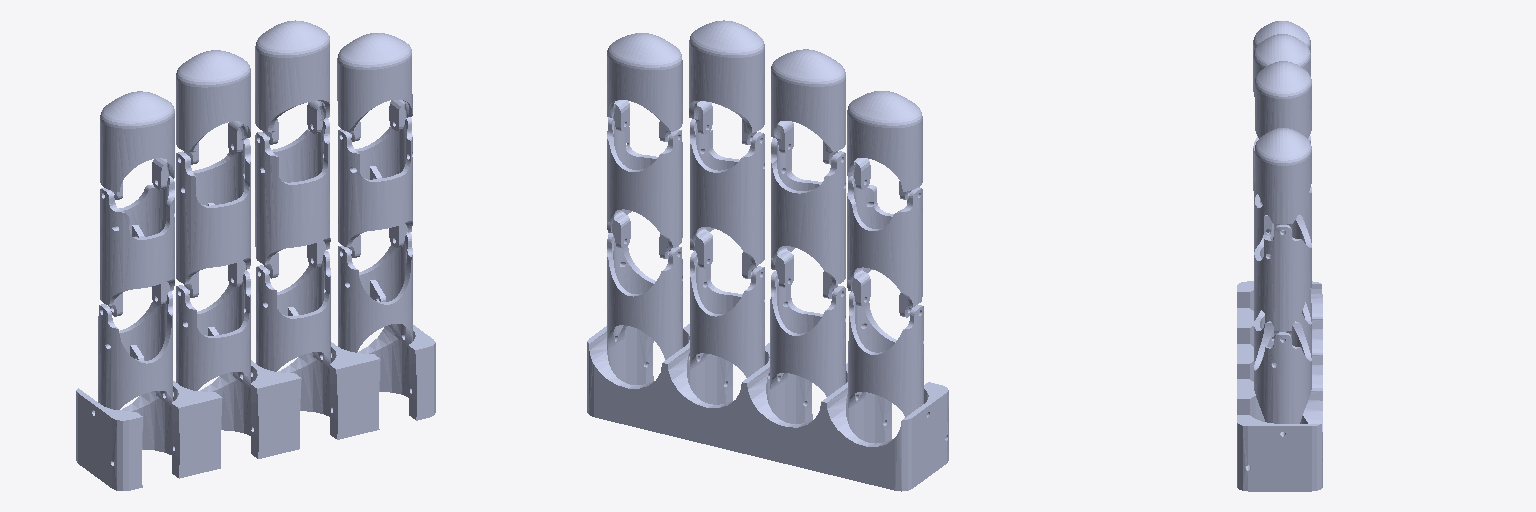
--- Facts derived from the render (not from the file) ---
3 views of the same robot in one strip: view 1: azimuth 30°, elevation 25°; view 2: azimuth 150°, elevation 25°; view 3: azimuth 270°, elevation 25° (orthographic).
Model robot_hand with 14 links and 13 joints (12 revolute, 1 fixed), rooted at world, posed every joint at zero.
Visible links, largest first — view 1: robot_hand_base_link, Middle_PIP, Ring_PIP, Pinky_PIP, Index_PIP, Middle_DIP, Middle_MCP, Ring_MCP, Pinky_MCP, Ring_DIP, Index_MCP, Pinky_DIP (+1 smaller); view 2: robot_hand_base_link, Middle_PIP, Ring_PIP, Pinky_PIP, Middle_DIP, Index_PIP, Ring_DIP, Ring_MCP, Pinky_MCP, Middle_MCP, Index_MCP, Pinky_DIP (+1 smaller); view 3: robot_hand_base_link, Index_PIP, Index_MCP, Index_DIP, Middle_DIP, Ring_DIP, Middle_PIP, Pinky_DIP, Middle_MCP.
Boxes of the visible links, x1,y1,x2,y2 form: robot_hand_base_link: (76,324,435,490); Middle_PIP: (255,118,330,278); Ring_PIP: (176,138,250,297); Pinky_PIP: (100,176,174,316); Index_PIP: (338,117,412,257); Middle_DIP: (255,20,329,144); Middle_MCP: (256,250,330,371); Ring_MCP: (176,270,250,390); Pinky_MCP: (98,291,172,409); Ring_DIP: (176,50,250,164); Index_MCP: (338,232,412,352); Pinky_DIP: (100,91,174,199); robot_hand_base_link: (587,324,948,491); Middle_PIP: (690,119,764,278); Ring_PIP: (771,138,845,298); Pinky_PIP: (847,176,922,317); Middle_DIP: (689,20,764,144); Index_PIP: (607,117,682,258); Ring_DIP: (771,49,845,164); Ring_MCP: (770,271,845,396); Pinky_MCP: (848,291,923,417); Middle_MCP: (690,251,764,377); Index_MCP: (607,233,682,359); Pinky_DIP: (847,91,922,199); robot_hand_base_link: (1237,281,1322,491); Index_PIP: (1254,215,1311,339); Index_MCP: (1254,321,1311,433); Index_DIP: (1254,128,1311,232); Middle_DIP: (1255,61,1311,138); Ring_DIP: (1253,34,1310,96); Middle_PIP: (1254,187,1311,251); Pinky_DIP: (1253,21,1310,53); Middle_MCP: (1254,302,1311,361).
Size in the robot's own frame: 0.119 by 0.03 by 0.1426 metres.
13 mesh visuals loaded from 13 distinct referenced files (13 binary STL).

The robot description file, URDF, robot "robot_hand":
<?xml version="1.0" ?>
<!-- =================================================================================== -->
<!-- |    This document was autogenerated by xacro from [local-path]/test_ws/src/robot_hand/robot_hand_description/urdf/robot_hand.xacro | -->
<!-- |    EDITING THIS FILE BY HAND IS NOT RECOMMENDED                                 | -->
<!-- =================================================================================== -->
<robot name="robot_hand">
    <link name="world" />
    <transmission name="I_MCP_trans">
        <type>transmission_interface/SimpleTransmission</type>
        <joint name="I_MCP">
            <hardwareInterface>hardware_interface/PositionJointInterface</hardwareInterface>
        </joint>
        <actuator name="I_MCP_motor">
            <mechanicalReduction>1</mechanicalReduction>
            <hardwareInterface>hardware_interface/PositionJointInterface</hardwareInterface>
        </actuator>
    </transmission>
    <transmission name="I_PIP_trans">
        <type>transmission_interface/SimpleTransmission</type>
        <joint name="I_PIP">
            <hardwareInterface>hardware_interface/PositionJointInterface</hardwareInterface>
        </joint>
        <actuator name="I_PIP_motor">
            <mechanicalReduction>1</mechanicalReduction>
            <hardwareInterface>hardware_interface/PositionJointInterface</hardwareInterface>
        </actuator>
    </transmission>
    <transmission name="I_DIP_trans">
        <type>transmission_interface/SimpleTransmission</type>
        <joint name="I_DIP">
            <hardwareInterface>hardware_interface/PositionJointInterface</hardwareInterface>
        </joint>
        <actuator name="I_DIP_motor">
            <mechanicalReduction>1</mechanicalReduction>
            <hardwareInterface>hardware_interface/PositionJointInterface</hardwareInterface>
        </actuator>
    </transmission>
    <transmission name="M_MCP_trans">
        <type>transmission_interface/SimpleTransmission</type>
        <joint name="M_MCP">
            <hardwareInterface>hardware_interface/PositionJointInterface</hardwareInterface>
        </joint>
        <actuator name="M_MCP_motor">
            <mechanicalReduction>1</mechanicalReduction>
            <hardwareInterface>hardware_interface/PositionJointInterface</hardwareInterface>
        </actuator>
    </transmission>
    <transmission name="M_PIP_trans">
        <type>transmission_interface/SimpleTransmission</type>
        <joint name="M_PIP">
            <hardwareInterface>hardware_interface/PositionJointInterface</hardwareInterface>
        </joint>
        <actuator name="M_PIP_motor">
            <mechanicalReduction>1</mechanicalReduction>
            <hardwareInterface>hardware_interface/PositionJointInterface</hardwareInterface>
        </actuator>
    </transmission>
    <transmission name="M_DIP_trans">
        <type>transmission_interface/SimpleTransmission</type>
        <joint name="M_DIP">
            <hardwareInterface>hardware_interface/PositionJointInterface</hardwareInterface>
        </joint>
        <actuator name="M_DIP_motor">
            <mechanicalReduction>1</mechanicalReduction>
            <hardwareInterface>hardware_interface/PositionJointInterface</hardwareInterface>
        </actuator>
    </transmission>
    <transmission name="R_MCP_trans">
        <type>transmission_interface/SimpleTransmission</type>
        <joint name="R_MCP">
            <hardwareInterface>hardware_interface/PositionJointInterface</hardwareInterface>
        </joint>
        <actuator name="R_MCP_motor">
            <mechanicalReduction>1</mechanicalReduction>
            <hardwareInterface>hardware_interface/PositionJointInterface</hardwareInterface>
        </actuator>
    </transmission>
    <transmission name="R_PIP_trans">
        <type>transmission_interface/SimpleTransmission</type>
        <joint name="R_PIP">
            <hardwareInterface>hardware_interface/PositionJointInterface</hardwareInterface>
        </joint>
        <actuator name="R_PIP_motor">
            <mechanicalReduction>1</mechanicalReduction>
            <hardwareInterface>hardware_interface/PositionJointInterface</hardwareInterface>
        </actuator>
    </transmission>
    <transmission name="R_DIP_trans">
        <type>transmission_interface/SimpleTransmission</type>
        <joint name="R_DIP">
            <hardwareInterface>hardware_interface/PositionJointInterface</hardwareInterface>
        </joint>
        <actuator name="R_DIP_motor">
            <mechanicalReduction>1</mechanicalReduction>
            <hardwareInterface>hardware_interface/PositionJointInterface</hardwareInterface>
        </actuator>
    </transmission>
    <transmission name="P_MCP_trans">
        <type>transmission_interface/SimpleTransmission</type>
        <joint name="P_MCP">
            <hardwareInterface>hardware_interface/PositionJointInterface</hardwareInterface>
        </joint>
        <actuator name="P_MCP_motor">
            <mechanicalReduction>1</mechanicalReduction>
            <hardwareInterface>hardware_interface/PositionJointInterface</hardwareInterface>
        </actuator>
    </transmission>
    <transmission name="P_PIP_trans">
        <type>transmission_interface/SimpleTransmission</type>
        <joint name="P_PIP">
            <hardwareInterface>hardware_interface/PositionJointInterface</hardwareInterface>
        </joint>
        <actuator name="P_PIP_motor">
            <mechanicalReduction>1</mechanicalReduction>
            <hardwareInterface>hardware_interface/PositionJointInterface</hardwareInterface>
        </actuator>
    </transmission>
    <transmission name="P_DIP_trans">
        <type>transmission_interface/SimpleTransmission</type>
        <joint name="P_DIP">
            <hardwareInterface>hardware_interface/PositionJointInterface</hardwareInterface>
        </joint>
        <actuator name="P_DIP_motor">
            <mechanicalReduction>1</mechanicalReduction>
            <hardwareInterface>hardware_interface/PositionJointInterface</hardwareInterface>
        </actuator>
    </transmission>
    <gazebo reference="robot_hand_base_link">
        <kp>1000000.0</kp>
        <kd>1.0</kd>
        <mu1>0.8</mu1>
        <mu2>0.8</mu2>
        <maxVel>0.0</maxVel>
        <minDepth>0.001</minDepth>
        <!-- <selfCollide>true</selfCollide> -->
        <plugin name="gazebo_ros_control">
            <robotNamespace>/</robotNamespace>
        </plugin>
    </gazebo>
    <gazebo reference="Index_MCP">
        <kp>1000000.0</kp>
        <kd>1.0</kd>
        <mu1>0.8</mu1>
        <mu2>0.8</mu2>
        <maxVel>0.0</maxVel>
        <minDepth>0.001</minDepth>
        <!-- <selfCollide>true</selfCollide> -->
    </gazebo>
    <gazebo reference="Index_PIP">
        <kp>1000000.0</kp>
        <kd>1.0</kd>
        <mu1>0.8</mu1>
        <mu2>0.8</mu2>
        <maxVel>0.0</maxVel>
        <minDepth>0.001</minDepth>
        <!-- <selfCollide>true</selfCollide> -->
    </gazebo>
    <gazebo reference="Index_DIP">
        <kp>1000000.0</kp>
        <kd>1.0</kd>
        <mu1>0.8</mu1>
        <mu2>0.8</mu2>
        <maxVel>0.0</maxVel>
        <minDepth>0.001</minDepth>
        <!-- <selfCollide>true</selfCollide> -->
    </gazebo>
    <gazebo reference="Middle_MCP">
        <kp>1000000.0</kp>
        <kd>1.0</kd>
        <mu1>0.8</mu1>
        <mu2>0.8</mu2>
        <maxVel>0.0</maxVel>
        <minDepth>0.001</minDepth>
        <!-- <selfCollide>true</selfCollide> -->
    </gazebo>
    <gazebo reference="Middle_PIP">
        <kp>1000000.0</kp>
        <kd>1.0</kd>
        <mu1>0.8</mu1>
        <mu2>0.8</mu2>
        <maxVel>0.0</maxVel>
        <minDepth>0.001</minDepth>
        <!-- <selfCollide>true</selfCollide> -->
    </gazebo>
    <gazebo reference="Middle_DIP">
        <kp>1000000.0</kp>
        <kd>1.0</kd>
        <mu1>0.8</mu1>
        <mu2>0.8</mu2>
        <maxVel>0.0</maxVel>
        <minDepth>0.001</minDepth>
        <!-- <selfCollide>true</selfCollide> -->
    </gazebo>
    <gazebo reference="Ring_MCP">
        <kp>1000000.0</kp>
        <kd>1.0</kd>
        <mu1>0.8</mu1>
        <mu2>0.8</mu2>
        <maxVel>0.0</maxVel>
        <minDepth>0.001</minDepth>
        <!-- <selfCollide>true</selfCollide> -->
    </gazebo>
    <gazebo reference="Ring_PIP">
        <kp>1000000.0</kp>
        <kd>1.0</kd>
        <mu1>0.8</mu1>
        <mu2>0.8</mu2>
        <maxVel>0.0</maxVel>
        <minDepth>0.001</minDepth>
        <!-- <selfCollide>true</selfCollide> -->
    </gazebo>
    <gazebo reference="Ring_DIP">
        <kp>1000000.0</kp>
        <kd>1.0</kd>
        <mu1>0.8</mu1>
        <mu2>0.8</mu2>
        <maxVel>0.0</maxVel>
        <minDepth>0.001</minDepth>
        <!-- <selfCollide>true</selfCollide> -->
    </gazebo>
    <gazebo reference="Pinky_MCP">
        <kp>1000000.0</kp>
        <kd>1.0</kd>
        <mu1>0.8</mu1>
        <mu2>0.8</mu2>
        <maxVel>0.0</maxVel>
        <minDepth>0.001</minDepth>
        <!-- <selfCollide>true</selfCollide> -->
    </gazebo>
    <gazebo reference="Pinky_PIP">
        <kp>1000000.0</kp>
        <kd>1.0</kd>
        <mu1>0.8</mu1>
        <mu2>0.8</mu2>
        <maxVel>0.0</maxVel>
        <minDepth>0.001</minDepth>
        <!-- <selfCollide>true</selfCollide> -->
    </gazebo>
    <gazebo reference="Pinky_DIP">
        <kp>1000000.0</kp>
        <kd>1.0</kd>
        <mu1>0.8</mu1>
        <mu2>0.8</mu2>
        <maxVel>0.0</maxVel>
        <minDepth>0.001</minDepth>
        <!-- <selfCollide>true</selfCollide> -->
    </gazebo>
    <gazebo reference="I_MCP">
        <implicitSpringDamper>true</implicitSpringDamper>
    </gazebo>
    <gazebo reference="I_PIP">
        <implicitSpringDamper>true</implicitSpringDamper>
    </gazebo>
    <gazebo reference="I_DIP">
        <implicitSpringDamper>true</implicitSpringDamper>
    </gazebo>
    <gazebo reference="M_MCP">
        <implicitSpringDamper>true</implicitSpringDamper>
    </gazebo>
    <gazebo reference="M_PIP">
        <implicitSpringDamper>true</implicitSpringDamper>
    </gazebo>
    <gazebo reference="M_DIP">
        <implicitSpringDamper>true</implicitSpringDamper>
    </gazebo>
    <gazebo reference="R_MCP">
        <implicitSpringDamper>true</implicitSpringDamper>
    </gazebo>
    <gazebo reference="R_PIP">
        <implicitSpringDamper>true</implicitSpringDamper>
    </gazebo>
    <gazebo reference="R_DIP">
        <implicitSpringDamper>true</implicitSpringDamper>
    </gazebo>
    <gazebo reference="P_MCP">
        <implicitSpringDamper>true</implicitSpringDamper>
    </gazebo>
    <gazebo reference="P_PIP">
        <implicitSpringDamper>true</implicitSpringDamper>
    </gazebo>
    <gazebo reference="P_DIP">
        <implicitSpringDamper>true</implicitSpringDamper>
    </gazebo>
    <!-- connect to parent link -->
    <joint name="robot_hand_base_joint" type="fixed">
        <parent link="world" />
        <child link="robot_hand_base_link" />
        <origin rpy="0.0 0.0 0.0" xyz="0.0 0.0 0.1" />
    </joint>
    <link name="robot_hand_base_link">
        <inertial>
            <origin rpy="0 0 0" xyz="0.00679916179935621 -0.0019256752110938 -0.00365584812497563" />
            <mass value="0.027526868485705" />
            <inertia ixx="4.44813578122786E-06" ixy="-3.90118485536691E-09" ixz="-2.6766706211295E-09" iyy="3.87930983079954E-05" iyz="-4.72320845861549E-07" izz="3.69454967150113E-05" />
        </inertial>
        <visual>
            <origin rpy="0 0 0" xyz="0 0 0" />
            <geometry>
                <mesh filename="package://robot_hand_description/meshes/base_link.STL" />
            </geometry>
            <material name="">
                <color rgba="0.796078431372549 0.823529411764706 0.937254901960784 1" />
            </material>
        </visual>
        <collision>
            <origin rpy="0 0 0" xyz="0 0 0" />
            <geometry>
                <mesh filename="package://robot_hand_description/meshes/base_link.STL" />
            </geometry>
        </collision>
    </link>
    <link name="Index_MCP">
        <inertial>
            <origin rpy="0 0 0" xyz="0.012682593304865 0.0162068829441154 -0.000625116427471942" />
            <mass value="0.00283104222178192" />
            <inertia ixx="2.68396990747804E-07" ixy="-1.74857407762405E-11" ixz="1.75612867570891E-10" iyy="3.21070306482887E-07" iyz="5.88647002871964E-09" izz="4.25530722400776E-07" />
        </inertial>
        <visual>
            <origin rpy="0 0 0" xyz="0 0 0" />
            <geometry>
                <mesh filename="package://robot_hand_description/meshes/Index_MCP.STL" />
            </geometry>
            <material name="">
                <color rgba="0.792156862745098 0.819607843137255 0.933333333333333 1" />
            </material>
        </visual>
        <collision>
            <origin rpy="0 0 0" xyz="0 0 0" />
            <geometry>
                <mesh filename="package://robot_hand_description/meshes/Index_MCP.STL" />
            </geometry>
        </collision>
    </link>
    <joint name="I_MCP" type="revolute">
        <origin rpy="1.5701 0 0" xyz="0.038816 0.0044374 0.008946" />
        <parent link="robot_hand_base_link" />
        <child link="Index_MCP" />
        <axis xyz="1 0 0" />
        <limit effort="10" lower="-1.4771" upper="0.18082" velocity="1" />
    </joint>
    <link name="Index_PIP">
        <inertial>
            <origin rpy="0 0 0" xyz="0.0126310365219343 0.0201709957614433 -9.54113611201825E-05" />
            <mass value="0.00349224522527916" />
            <inertia ixx="4.28270951698702E-07" ixy="1.73003912727725E-11" ixz="-4.91453833301983E-11" iyy="3.82638725849662E-07" iyz="2.80038778736064E-08" izz="5.95574976043894E-07" />
        </inertial>
        <visual>
            <origin rpy="0 0 0" xyz="0 0 0" />
            <geometry>
                <mesh filename="package://robot_hand_description/meshes/Index_PIP.STL" />
            </geometry>
            <material name="">
                <color rgba="0.792156862745098 0.819607843137255 0.933333333333333 1" />
            </material>
        </visual>
        <collision>
            <origin rpy="0 0 0" xyz="0 0 0" />
            <geometry>
                <mesh filename="package://robot_hand_description/meshes/Index_PIP.STL" />
            </geometry>
        </collision>
    </link>
    <joint name="I_PIP" type="revolute">
        <origin rpy="-0.00012255 0 0" xyz="0 0.035 0" />
        <parent link="Index_MCP" />
        <child link="Index_PIP" />
        <axis xyz="1 0 0" />
        <limit effort="10" lower="-1.5376" upper="0.15464" velocity="1" />
    </joint>
    <link name="Index_DIP">
        <inertial>
            <origin rpy="0 0 0" xyz="0.0126443172988165 -0.0192320712158117 0.000175621359642236" />
            <mass value="0.00362445623964682" />
            <inertia ixx="3.58966159502274E-07" ixy="4.14596593976165E-11" ixz="2.33824961588716E-11" iyy="3.35705493851876E-07" iyz="6.24081740884986E-10" izz="4.779340977474E-07" />
        </inertial>
        <visual>
            <origin rpy="0 0 0" xyz="0 0 0" />
            <geometry>
                <mesh filename="package://robot_hand_description/meshes/Index_DIP.STL" />
            </geometry>
            <material name="">
                <color rgba="0.792156862745098 0.819607843137255 0.933333333333333 1" />
            </material>
        </visual>
        <collision>
            <origin rpy="0 0 0" xyz="0 0 0" />
            <geometry>
                <mesh filename="package://robot_hand_description/meshes/Index_DIP.STL" />
            </geometry>
        </collision>
    </link>
    <joint name="I_DIP" type="revolute">
        <origin rpy="3.1389 0 0" xyz="0 0.041185 0" />
        <parent link="Index_PIP" />
        <child link="Index_DIP" />
        <axis xyz="1 0 0" />
        <limit effort="10" lower="-1.4558" upper="0.17453" velocity="1" />
    </joint>
    <link name="Middle_MCP">
        <inertial>
            <origin rpy="0 0 0" xyz="0.0126879087309877 0.0154979280536171 -0.000460763708118244" />
            <mass value="0.00303715863779007" />
            <inertia ixx="3.00421693606092E-07" ixy="1.28997577863778E-11" ixz="6.95566815197937E-11" iyy="3.42251597986814E-07" iyz="5.91359935850575E-09" izz="4.46095724267292E-07" />
        </inertial>
        <visual>
            <origin rpy="0 0 0" xyz="0 0 0" />
            <geometry>
                <mesh filename="package://robot_hand_description/meshes/Middle_MCP.STL" />
            </geometry>
            <material name="">
                <color rgba="0.792156862745098 0.819607843137255 0.933333333333333 1" />
            </material>
        </visual>
        <collision>
            <origin rpy="0 0 0" xyz="0 0 0" />
            <geometry>
                <mesh filename="package://robot_hand_description/meshes/Middle_MCP.STL" />
            </geometry>
        </collision>
    </link>
    <joint name="M_MCP" type="revolute">
        <origin rpy="1.5726 0 0" xyz="0.008435 0.0044374 0.008946" />
        <parent link="robot_hand_base_link" />
        <child link="Middle_MCP" />
        <axis xyz="1 0 0" />
        <limit effort="10" lower="-1.4717" upper="0.24435" velocity="1" />
    </joint>
    <link name="Middle_PIP">
        <inertial>
            <origin rpy="0 0 0" xyz="0.0126177717251578 0.0236370269473342 -0.000123638278977505" />
            <mass value="0.00421401220768261" />
            <inertia ixx="6.44849155259494E-07" ixy="1.09662271183159E-11" ixz="-4.38489725486866E-11" iyy="4.58477964785857E-07" iyz="3.75475104147763E-08" izz="8.2581260157064E-07" />
        </inertial>
        <visual>
            <origin rpy="0 0 0" xyz="0 0 0" />
            <geometry>
                <mesh filename="package://robot_hand_description/meshes/Middle_PIP.STL" />
            </geometry>
            <material name="">
                <color rgba="0.792156862745098 0.819607843137255 0.933333333333333 1" />
            </material>
        </visual>
        <collision>
            <origin rpy="0 0 0" xyz="0 0 0" />
            <geometry>
                <mesh filename="package://robot_hand_description/meshes/Middle_PIP.STL" />
            </geometry>
        </collision>
    </link>
    <joint name="M_PIP" type="revolute">
        <origin rpy="-0.0072617 0 0" xyz="0 0.035 0" />
        <parent link="Middle_MCP" />
        <child link="Middle_PIP" />
        <axis xyz="1 0 0" />
        <limit effort="10" lower="-1.6343" upper="0.14992" velocity="1" />
    </joint>
    <link name="Middle_DIP">
        <inertial>
            <origin rpy="0 0 0" xyz="0.0127223421207237 -0.0221676473088204 0.000221550832163056" />
            <mass value="0.00436102638650894" />
            <inertia ixx="5.38273182816303E-07" ixy="1.91216857813148E-11" ixz="-5.93784312446328E-13" iyy="4.04550672036207E-07" iyz="-1.81608330783571E-09" izz="6.70718090874217E-07" />
        </inertial>
        <visual>
            <origin rpy="0 0 0" xyz="0 0 0" />
            <geometry>
                <mesh filename="package://robot_hand_description/meshes/Middle_DIP.STL" />
            </geometry>
            <material name="">
                <color rgba="0.792156862745098 0.819607843137255 0.933333333333333 1" />
            </material>
        </visual>
        <collision>
            <origin rpy="0 0 0" xyz="0 0 0" />
            <geometry>
                <mesh filename="package://robot_hand_description/meshes/Middle_DIP.STL" />
            </geometry>
        </collision>
    </link>
    <joint name="M_DIP" type="revolute">
        <origin rpy="-3.1352 0 0" xyz="0 0.047185 0" />
        <parent link="Middle_PIP" />
        <child link="Middle_DIP" />
        <axis xyz="1 0 0" />
        <limit effort="10" lower="-1.3116" upper="0.067544" velocity="1" />
    </joint>
    <link name="Ring_MCP">
        <inertial>
            <origin rpy="0 0 0" xyz="-0.00851069417048304 0.0154979284345673 -0.000460779135479866" />
            <mass value="0.00303715829296062" />
            <inertia ixx="3.00421605529124E-07" ixy="1.29376837811315E-11" ixz="7.00894753767423E-11" iyy="3.42251537696707E-07" iyz="5.91370157650367E-09" izz="4.4609572890628E-07" />
        </inertial>
        <visual>
            <origin rpy="0 0 0" xyz="0 0 0" />
            <geometry>
                <mesh filename="package://robot_hand_description/meshes/Ring_MCP.STL" />
            </geometry>
            <material name="">
                <color rgba="0.792156862745098 0.819607843137255 0.933333333333333 1" />
            </material>
        </visual>
        <collision>
            <origin rpy="0 0 0" xyz="0 0 0" />
            <geometry>
                <mesh filename="package://robot_hand_description/meshes/Ring_MCP.STL" />
            </geometry>
        </collision>
    </link>
    <joint name="R_MCP" type="revolute">
        <origin rpy="1.575 0 0" xyz="0 0.0044374 0.008946" />
        <parent link="robot_hand_base_link" />
        <child link="Ring_MCP" />
        <axis xyz="1 0 0" />
        <limit effort="10" lower="-1.4696" upper="0.23405" velocity="1" />
    </joint>
    <link name="Ring_PIP">
        <inertial>
            <origin rpy="0 0 0" xyz="-0.00855133676474402 0.0232472264469809 -0.000176680583923661" />
            <mass value="0.00409039102539737" />
            <inertia ixx="6.16455094868082E-07" ixy="2.67772798437732E-11" ixz="-5.29133703092478E-11" iyy="4.45779709619646E-07" iyz="3.86948158031167E-08" izz="7.97277060473416E-07" />
        </inertial>
        <visual>
            <origin rpy="0 0 0" xyz="0 0 0" />
            <geometry>
                <mesh filename="package://robot_hand_description/meshes/Ring_PIP.STL" />
            </geometry>
            <material name="">
                <color rgba="0.792156862745098 0.819607843137255 0.933333333333333 1" />
            </material>
        </visual>
        <collision>
            <origin rpy="0 0 0" xyz="0 0 0" />
            <geometry>
                <mesh filename="package://robot_hand_description/meshes/Ring_PIP.STL" />
            </geometry>
        </collision>
    </link>
    <joint name="R_PIP" type="revolute">
        <origin rpy="-0.0021277 0 0" xyz="0 0.035 0" />
        <parent link="Ring_MCP" />
        <child link="Ring_PIP" />
        <axis xyz="1 0 0" />
        <limit effort="10" lower="-1.6357" upper="0.14347" velocity="1" />
    </joint>
    <link name="Ring_DIP">
        <inertial>
            <origin rpy="0 0 0" xyz="-0.00852393262700487 -0.0203547421063335 0.000239584005666251" />
            <mass value="0.00395455991158003" />
            <inertia ixx="4.19356255680021E-07" ixy="4.85134953386412E-11" ixz="1.59532288599564E-11" iyy="3.62160651949908E-07" iyz="4.24814682139223E-10" izz="5.44900483167488E-07" />
        </inertial>
        <visual>
            <origin rpy="0 0 0" xyz="0 0 0" />
            <geometry>
                <mesh filename="package://robot_hand_description/meshes/Ring_DIP.STL" />
            </geometry>
            <material name="">
                <color rgba="0.792156862745098 0.819607843137255 0.933333333333333 1" />
            </material>
        </visual>
        <collision>
            <origin rpy="0 0 0" xyz="0 0 0" />
            <geometry>
                <mesh filename="package://robot_hand_description/meshes/Ring_DIP.STL" />
            </geometry>
        </collision>
    </link>
    <joint name="R_DIP" type="revolute">
        <origin rpy="3.1398 0 0" xyz="0 0.047185 0" />
        <parent link="Ring_PIP" />
        <child link="Ring_DIP" />
        <axis xyz="1 0 0" />
        <limit effort="10" lower="-1.3556" upper="0.071733" velocity="1" />
    </joint>
    <link name="Pinky_MCP">
        <inertial>
            <origin rpy="0 0 0" xyz="-0.012683586125157 0.0155271782044589 -0.000545257290891017" />
            <mass value="0.00301955312893102" />
            <inertia ixx="2.99518703545727E-07" ixy="5.00022852867899E-11" ixz="1.12069400764E-10" iyy="3.41397480166498E-07" iyz="6.05927058795006E-09" izz="4.50216530517462E-07" />
        </inertial>
        <visual>
            <origin rpy="0 0 0" xyz="0 0 0" />
            <geometry>
                <mesh filename="package://robot_hand_description/meshes/Pinky_MCP.STL" />
            </geometry>
            <material name="">
                <color rgba="0.792156862745098 0.819607843137255 0.933333333333333 1" />
            </material>
        </visual>
        <collision>
            <origin rpy="0 0 0" xyz="0 0 0" />
            <geometry>
                <mesh filename="package://robot_hand_description/meshes/Pinky_MCP.STL" />
            </geometry>
        </collision>
    </link>
    <joint name="P_MCP" type="revolute">
        <origin rpy="1.5759 0 0" xyz="-0.02453 0.0044374 0.008946" />
        <parent link="robot_hand_base_link" />
        <child link="Pinky_MCP" />
        <axis xyz="1 0 0" />
        <limit effort="10" lower="-1.464" upper="0.2618" velocity="1" />
    </joint>
    <link name="Pinky_PIP">
        <inertial>
            <origin rpy="0 0 0" xyz="-0.0121871427474864 0.0205416921419714 3.56364307361962E-05" />
            <mass value="0.0035949457541538" />
            <inertia ixx="4.50057809440092E-07" ixy="9.49540070653282E-12" ixz="-3.94459518050641E-11" iyy="3.93951645542421E-07" iyz="2.31419842280833E-08" izz="6.20691381270147E-07" />
        </inertial>
        <visual>
            <origin rpy="0 0 0" xyz="0 0 0" />
            <geometry>
                <mesh filename="package://robot_hand_description/meshes/Pinky_PIP.STL" />
            </geometry>
            <material name="">
                <color rgba="0.792156862745098 0.819607843137255 0.933333333333333 1" />
            </material>
        </visual>
        <collision>
            <origin rpy="0 0 0" xyz="0 0 0" />
            <geometry>
                <mesh filename="package://robot_hand_description/meshes/Pinky_PIP.STL" />
            </geometry>
        </collision>
    </link>
    <joint name="P_PIP" type="revolute">
        <origin rpy="-0.0018272 0 0" xyz="0 0.035 0" />
        <parent link="Pinky_MCP" />
        <child link="Pinky_PIP" />
        <axis xyz="1 0 0" />
        <limit effort="10" lower="-1.5329" upper="0.13107" velocity="1" />
    </joint>
    <link name="Pinky_DIP">
        <inertial>
            <origin rpy="0 0 0" xyz="-0.0121135317770977 -0.0191486461097885 0.000174607199637055" />
            <mass value="0.00364561411043183" />
            <inertia ixx="3.6398179673314E-07" ixy="4.45358869574254E-11" ixz="2.17009374581359E-11" iyy="3.38510629479639E-07" iyz="6.79893340816322E-10" izz="4.84559404112233E-07" />
        </inertial>
        <visual>
            <origin rpy="0 0 0" xyz="0 0 0" />
            <geometry>
                <mesh filename="package://robot_hand_description/meshes/Pinky_DIP.STL" />
            </geometry>
            <material name="">
                <color rgba="0.792156862745098 0.819607843137255 0.933333333333333 1" />
            </material>
        </visual>
        <collision>
            <origin rpy="0 0 0" xyz="0 0 0" />
            <geometry>
                <mesh filename="package://robot_hand_description/meshes/Pinky_DIP.STL" />
            </geometry>
        </collision>
    </link>
    <joint name="P_DIP" type="revolute">
        <origin rpy="3.1378 0 0" xyz="0 0.041185 0" />
        <parent link="Pinky_PIP" />
        <child link="Pinky_DIP" />
        <axis xyz="1 0 0" />
        <limit effort="10" lower="-1.458" upper="0.16947" velocity="1" />
    </joint>
    <gazebo>
        <plugin filename="libgazebo_ros_control.so" name="ros_control" />
    </gazebo>
</robot>
